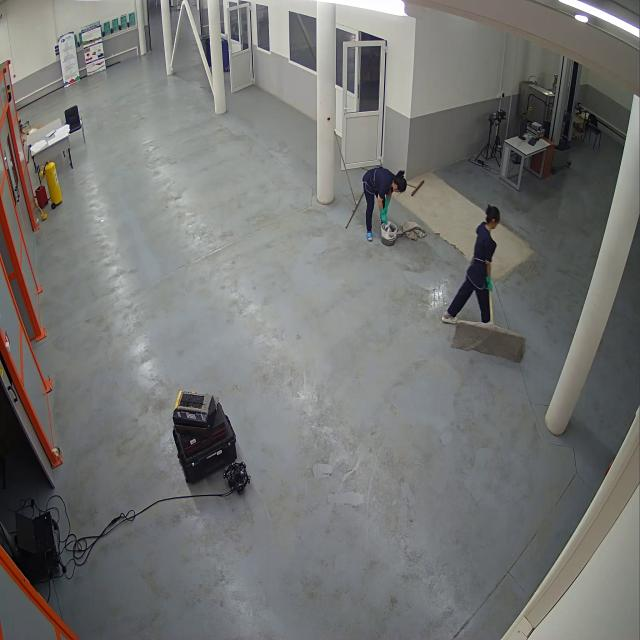NO-Hardhat: (488, 205, 501, 217), (400, 175, 407, 192)
Person: (442, 204, 501, 329), (360, 166, 411, 246)
